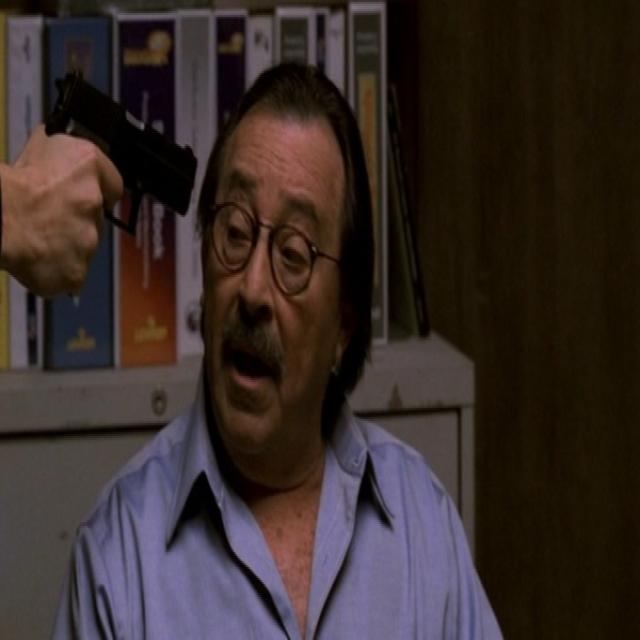weapons: (26, 42, 202, 275)
